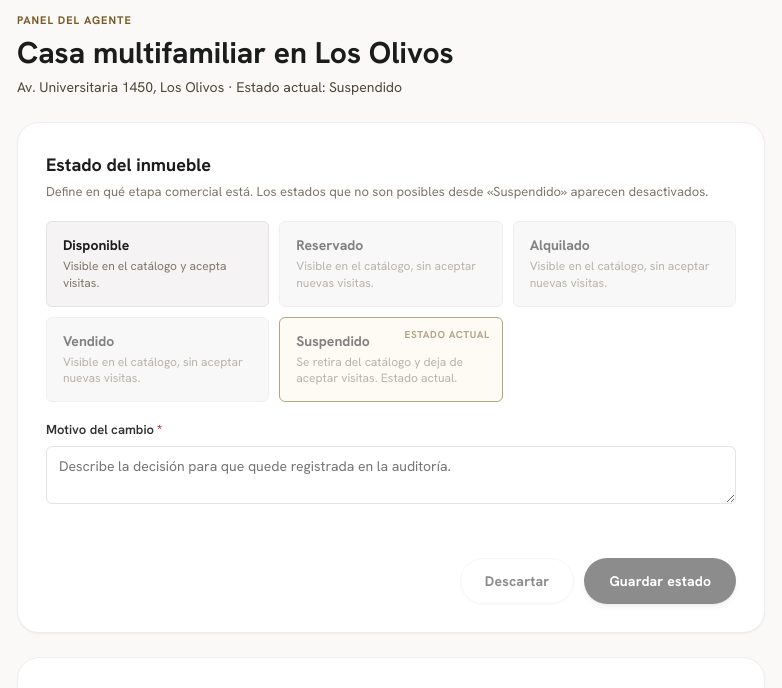
Scenario: setupMocks: integración HTTP de disponibilidad › abre un suspendido por gestión y lo reactiva desde el panel real
Expected: the heading "Estado del inmueble" is shown, [46,152,211,176]
Click the radio button labelled "Disponible Visible en el catálogo y acepta visitas.": (158, 264) [46,221,269,307]
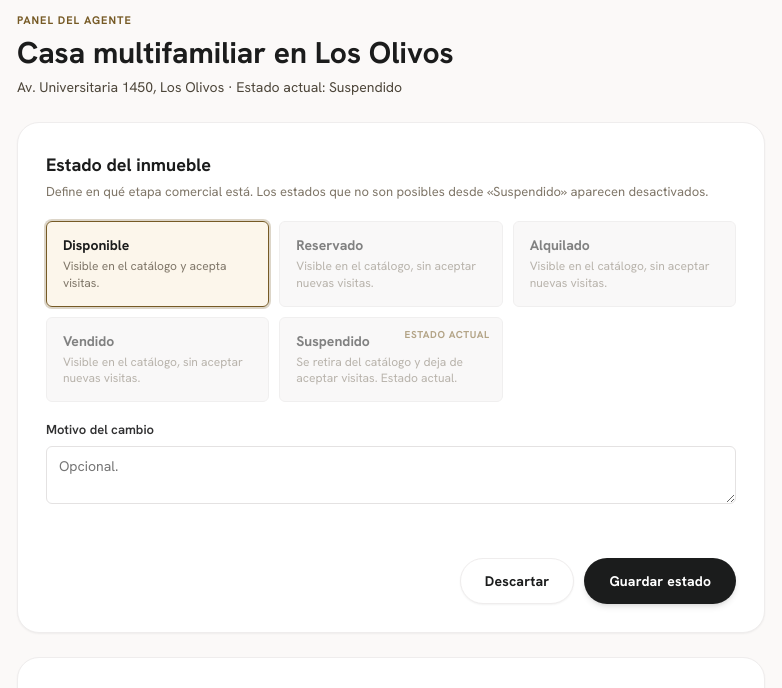
Click the button "Guardar estado": (660, 581) [584,558,736,604]
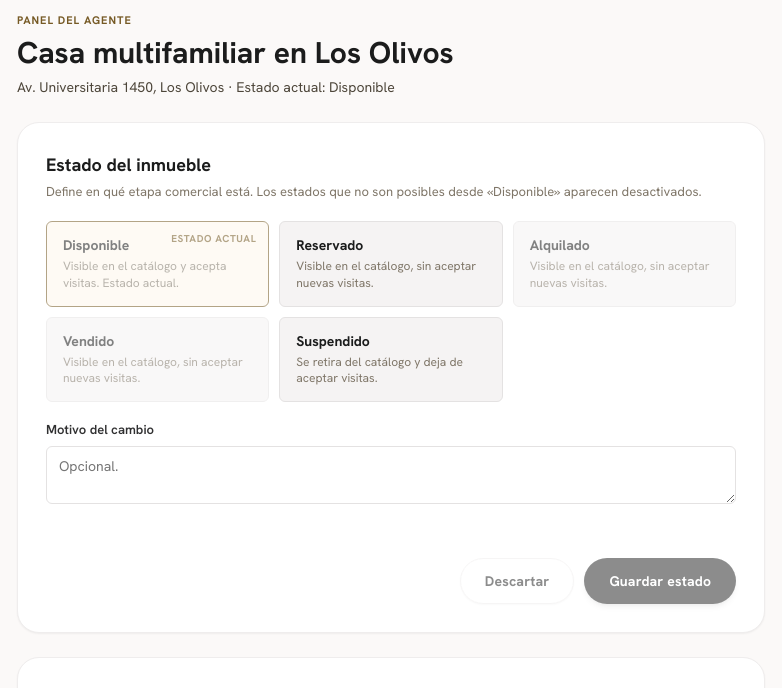
Expected: the text "Estado actual: Disponible" is shown, [17,78,395,96]
